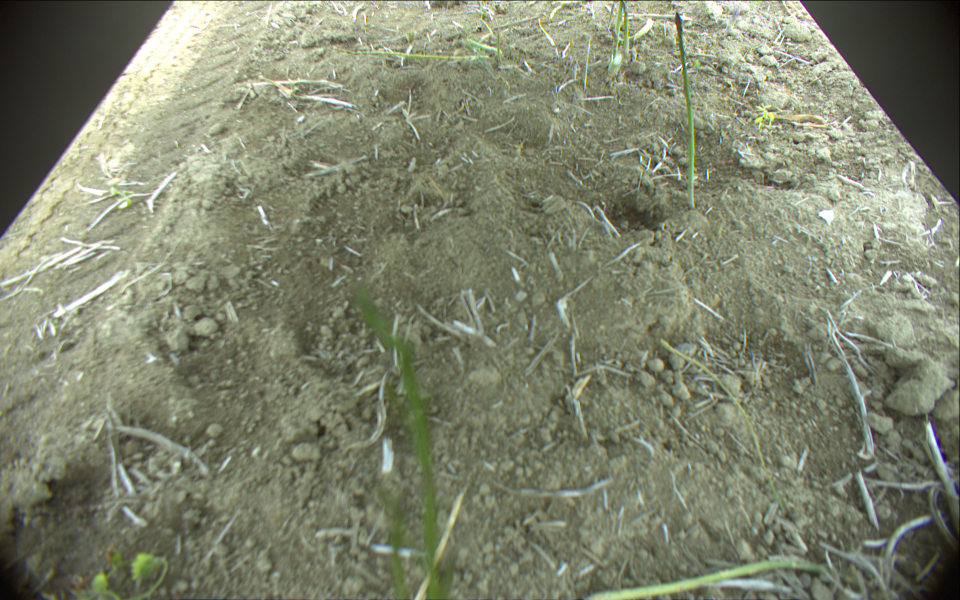aspa: (350, 289, 451, 600), (583, 563, 822, 599), (676, 14, 701, 211), (378, 476, 412, 600), (333, 48, 489, 61), (608, 1, 623, 82), (467, 38, 507, 61), (631, 21, 655, 45), (619, 1, 628, 60), (478, 16, 493, 43), (497, 31, 507, 56)
